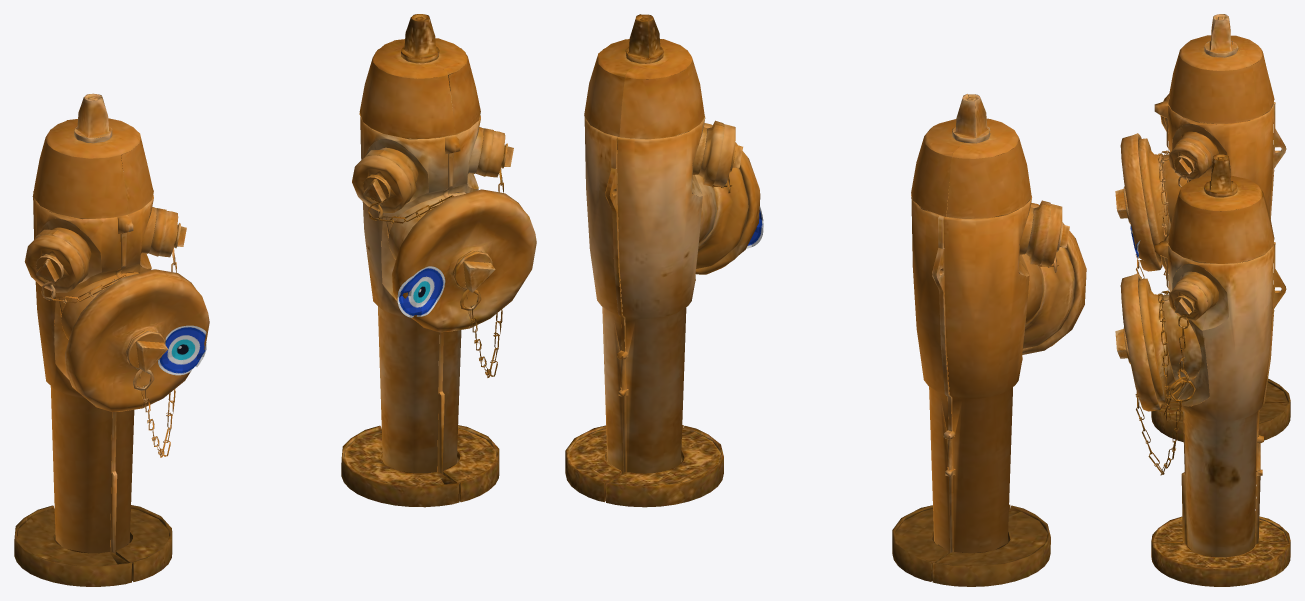
Rendered from nyb_hydrant_gold.glb.
3 views of the same model, side by side, from view 1: azimuth 30°, elevation 25°; view 2: azimuth 150°, elevation 25°; view 3: azimuth 270°, elevation 25° (orthographic). The views are drawn at different scales.
Parts seen in each view (by area): view 1: fire_hydrant, stk_nazar_die.png, stk_nazar_die.png.001; view 2: fire_hydrant; view 3: fire_hydrant.
Boxes of the visible parts, box(x1,y1,x2,y2) form: fire_hydrant: box(14, 14, 536, 586); stk_nazar_die.png: box(158, 325, 206, 375); stk_nazar_die.png.001: box(397, 266, 445, 317); fire_hydrant: box(565, 14, 1086, 586); fire_hydrant: box(1115, 14, 1290, 586).
Size of the model in its own units: 0.8738 by 0.8004 by 0.3173.
Materials: 4 (4 with a texture image).
